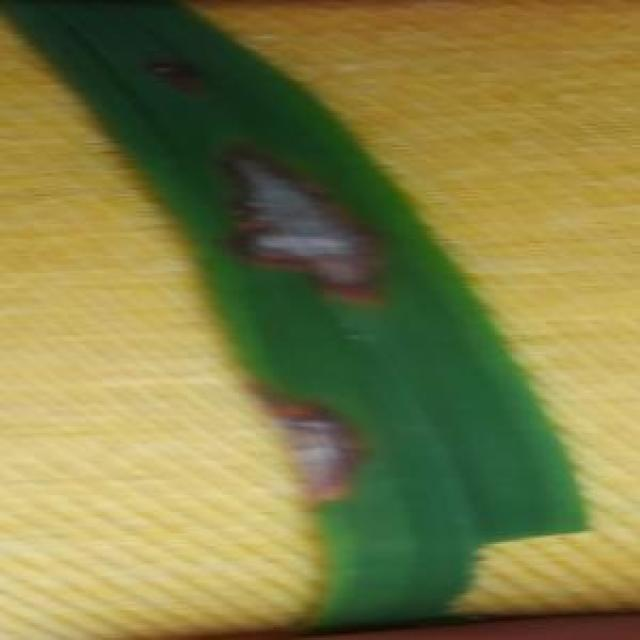Leaf_Blast: (209, 117, 405, 322), (230, 376, 384, 514), (126, 28, 243, 117)
